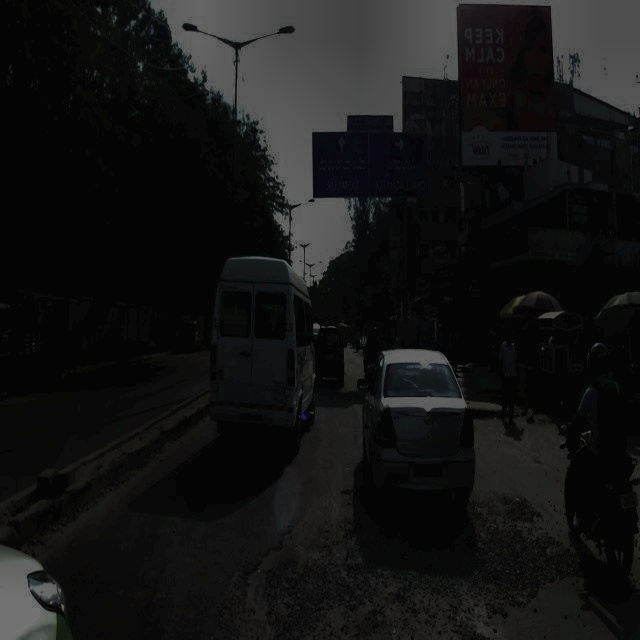Pothole: (229, 516, 374, 640), (381, 521, 501, 640), (502, 497, 552, 595)
